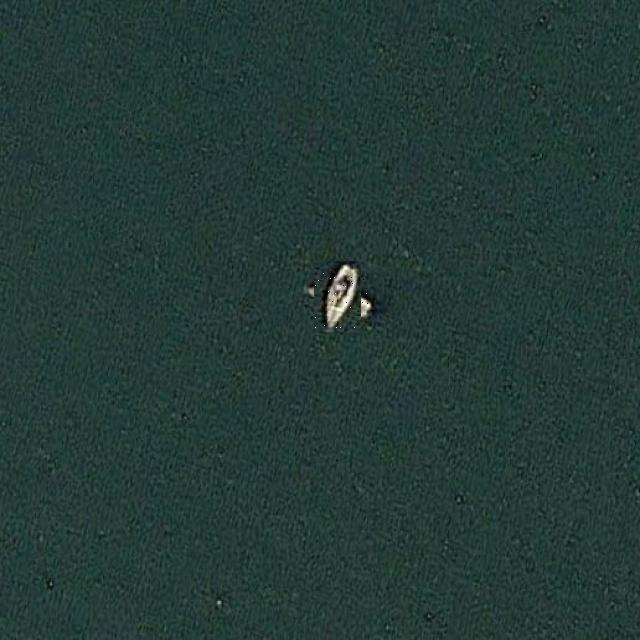boat: (307, 267, 368, 328)
